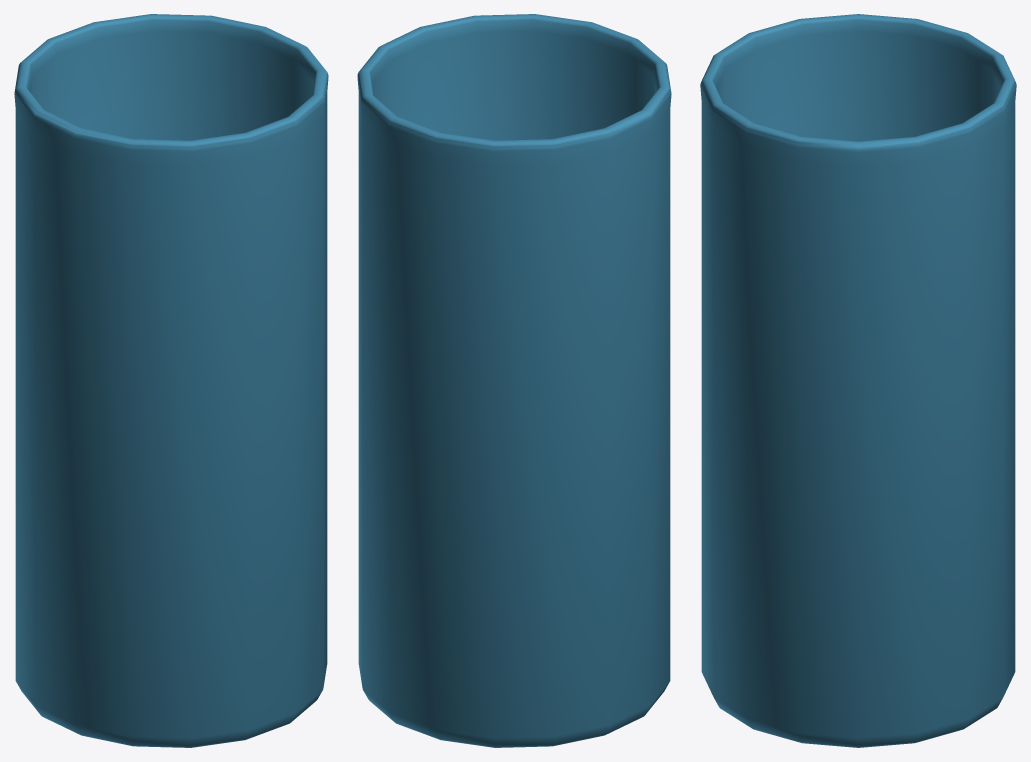
The model's file is Glass_Highball.fbx.
The picture shows the model from 3 angles, left to right: view 1: azimuth 30°, elevation 25°; view 2: azimuth 150°, elevation 25°; view 3: azimuth 270°, elevation 25°; orthographic projection.
Parts seen in each view (by area): view 1: Highball_Glass; view 2: Highball_Glass; view 3: Highball_Glass.
Part boxes in pixels (x1,y1,x2,y2): Highball_Glass: [14, 14, 328, 747]; Highball_Glass: [357, 14, 671, 747]; Highball_Glass: [700, 14, 1016, 747].
Size of the model in its own units: 0.0655 by 0.14 by 0.0655.
